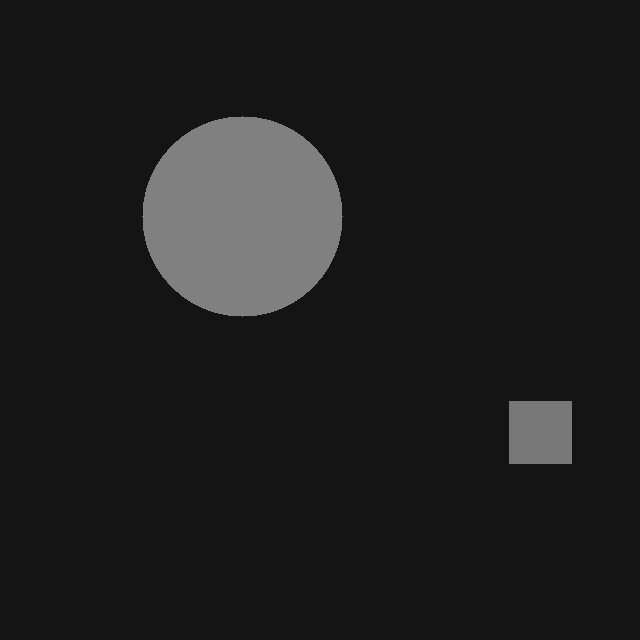circle: (142, 116, 342, 316)
square: (509, 401, 571, 463)
